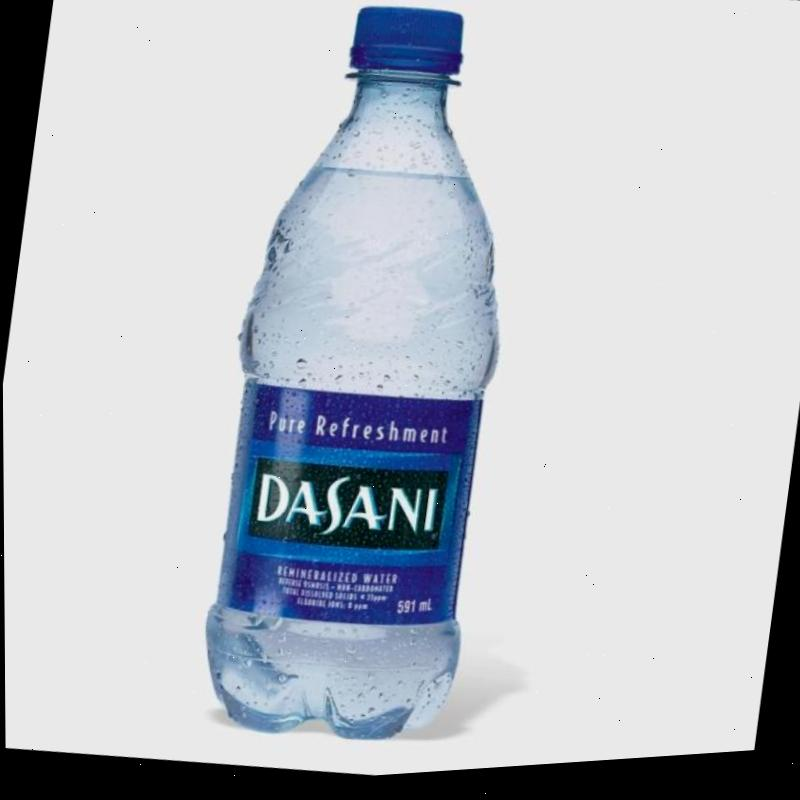botella: (187, 0, 554, 763)
